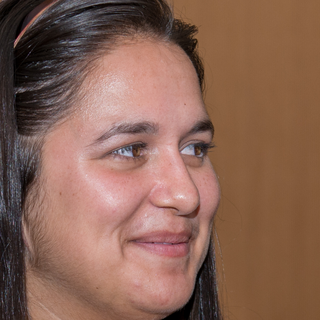eye: (85, 130, 155, 175), (177, 132, 217, 169)
